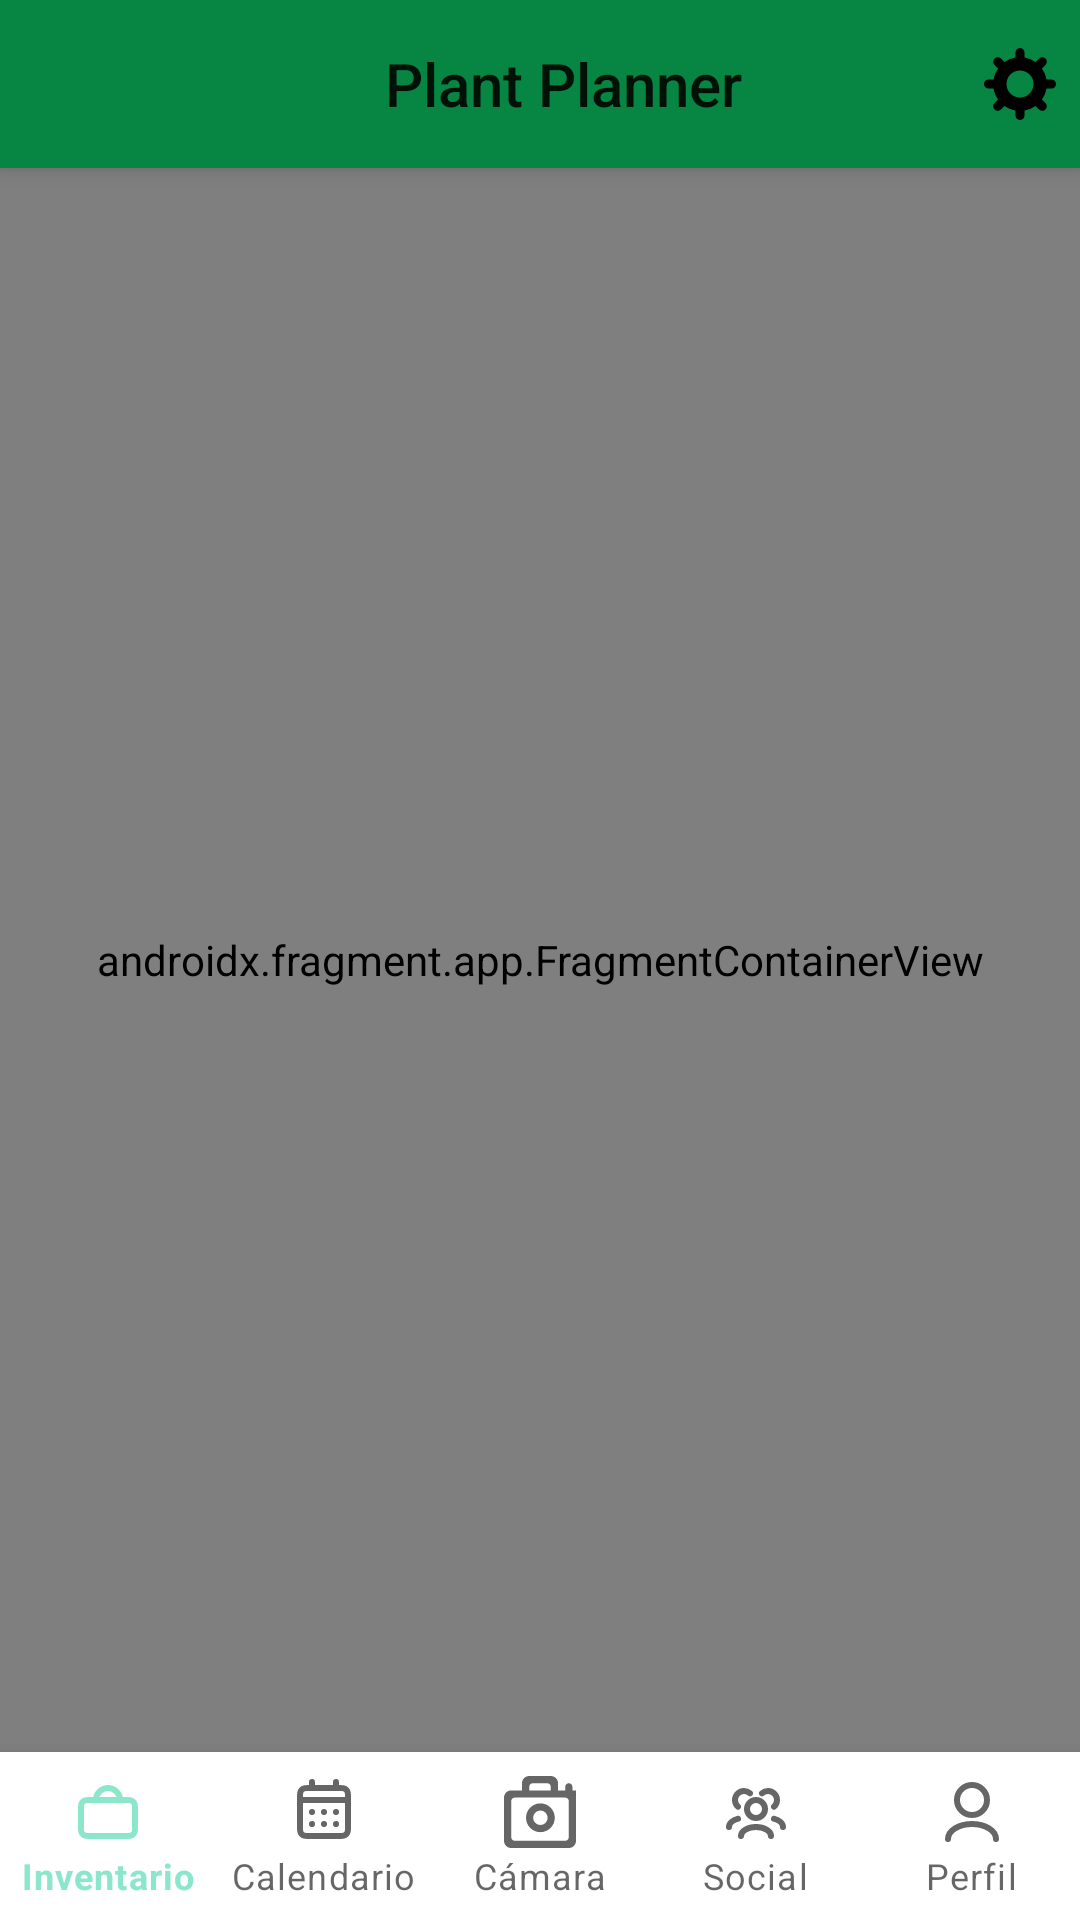

Named icons in this screenshot (1080x1920) and their centers, [x,y]:
Settings: [1020,84]
